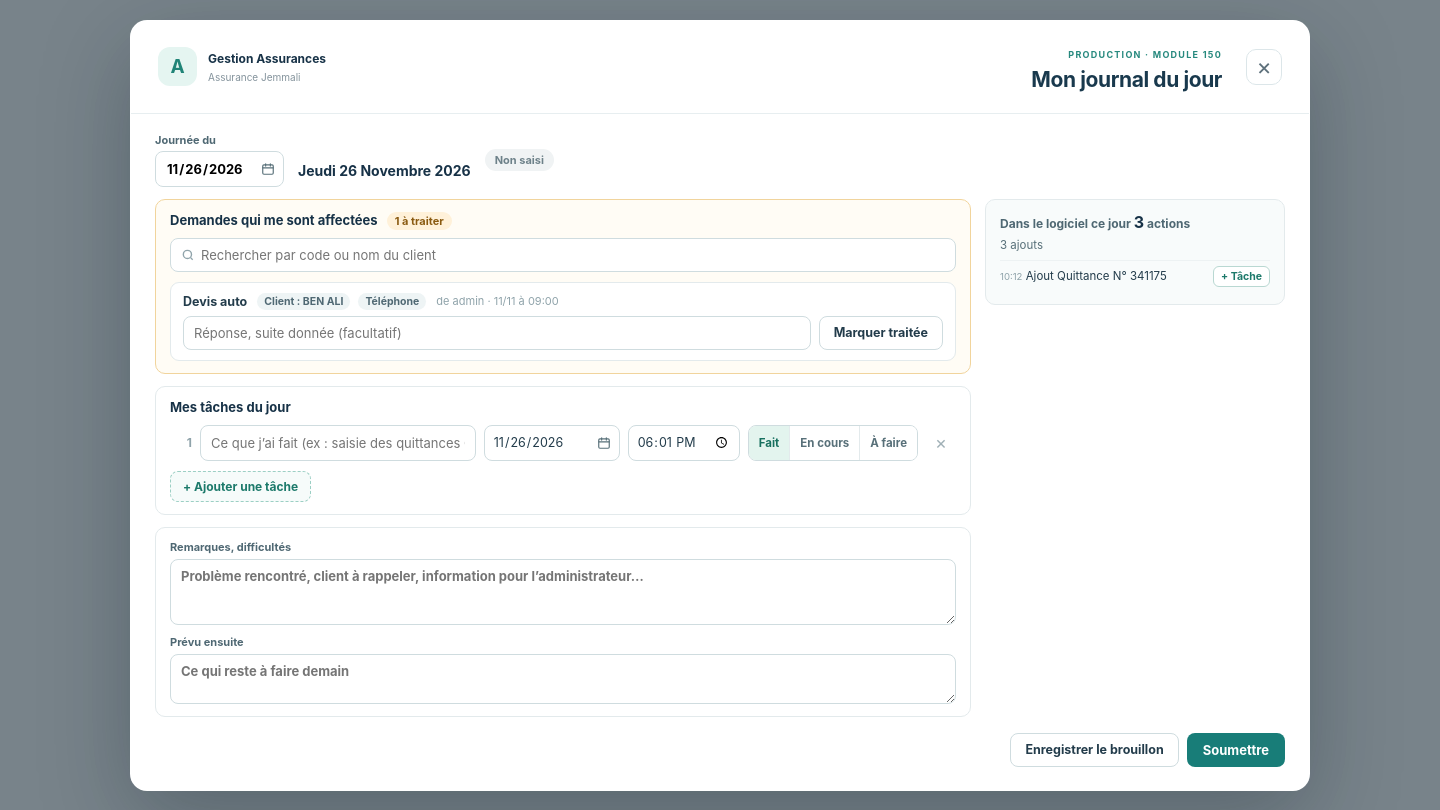
an employee sees the requests assigned to them and marks one as handled
Expected: the text "1 à traiter" is shown, top-left (387, 212), bottom-right (452, 230)
Type "Devis envoyé" into the field named "Réponse à la demande 7" at (497, 332), box top-left (183, 316), bottom-right (811, 350)
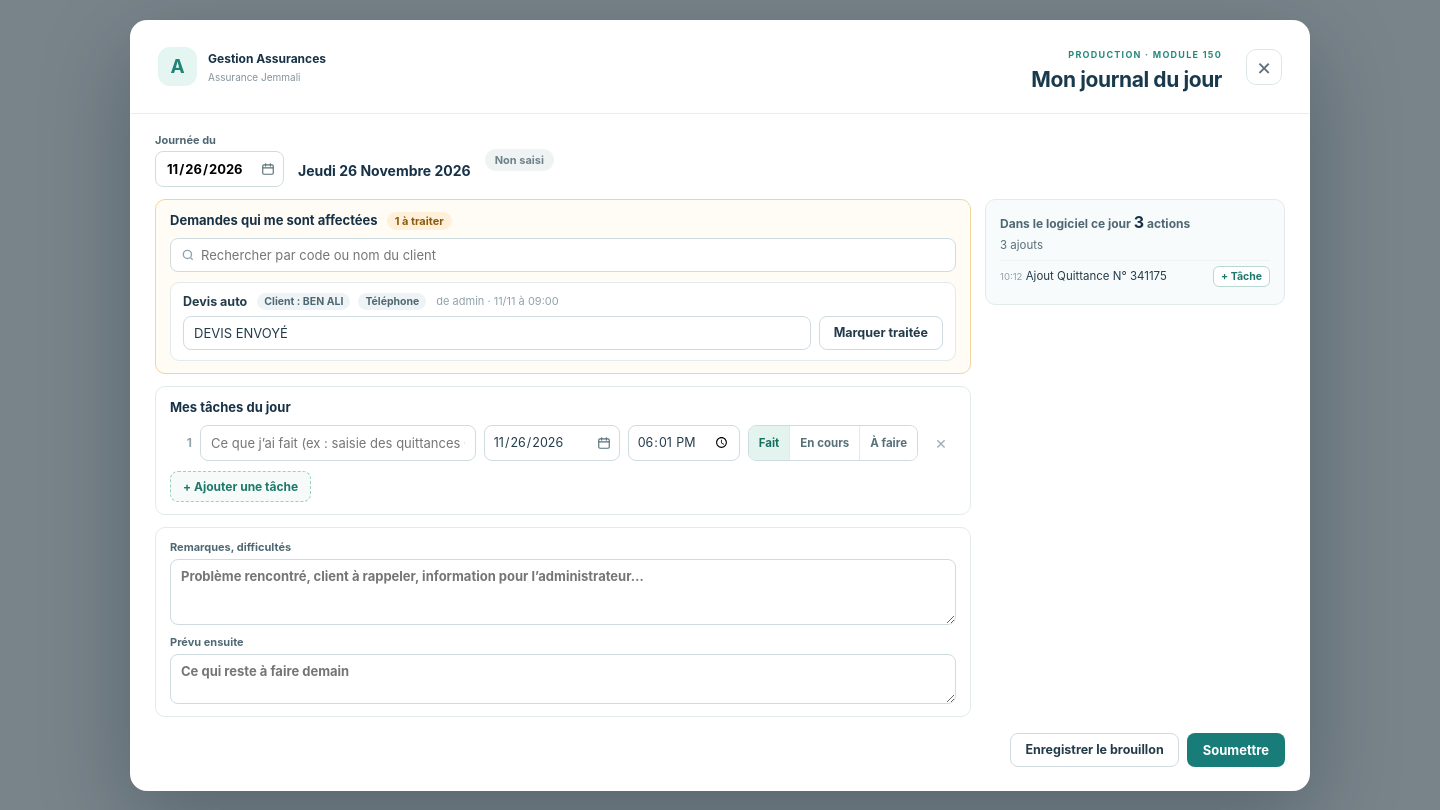
Click the button "Marquer traitée" at (881, 332), box top-left (819, 316), bottom-right (943, 350)
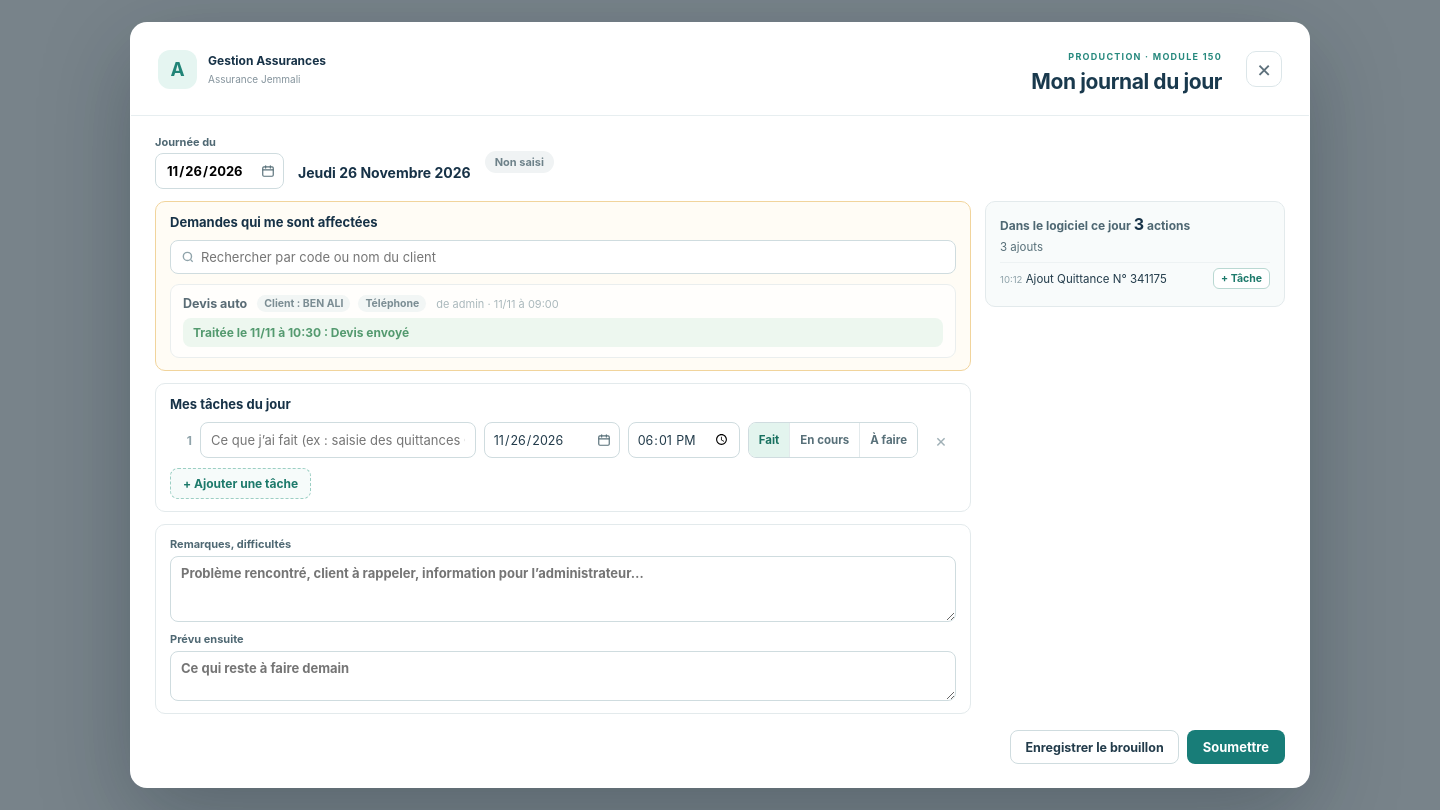
Result: the text "Traitée le 11/11 à 10:30 : Devis envoyé" is shown at top-left (183, 318), bottom-right (943, 347)
